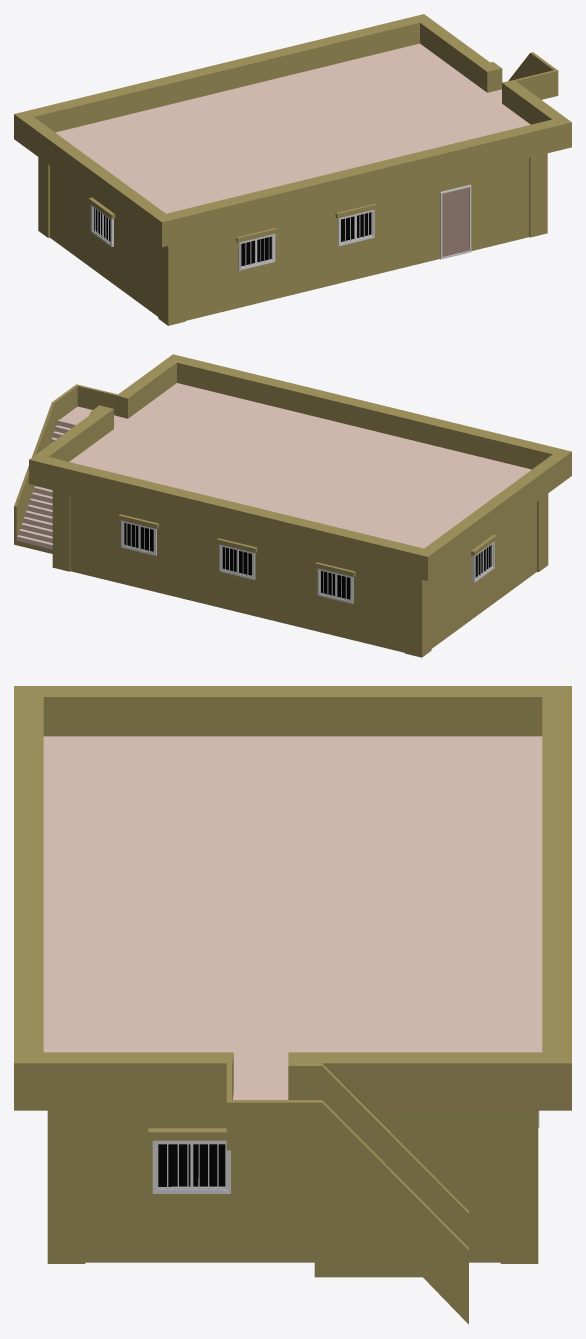
File: barrack_small2_middle.fbx
The picture shows the model from 3 angles, top to bottom: view 1: azimuth 30°, elevation 25°; view 2: azimuth 150°, elevation 25°; view 3: azimuth 270°, elevation 25°; orthographic projection. The views are drawn at different scales.
Parts seen in each view (by area): view 1: pCube33; view 2: pCube33; view 3: pCube33.
Boxes of the visible parts, x1,y1,x2,y2 form: pCube33: (14,14,571,325); pCube33: (14,354,571,657); pCube33: (14,686,571,1324).
Size of the model in its own units: 1325 by 330 by 750.
